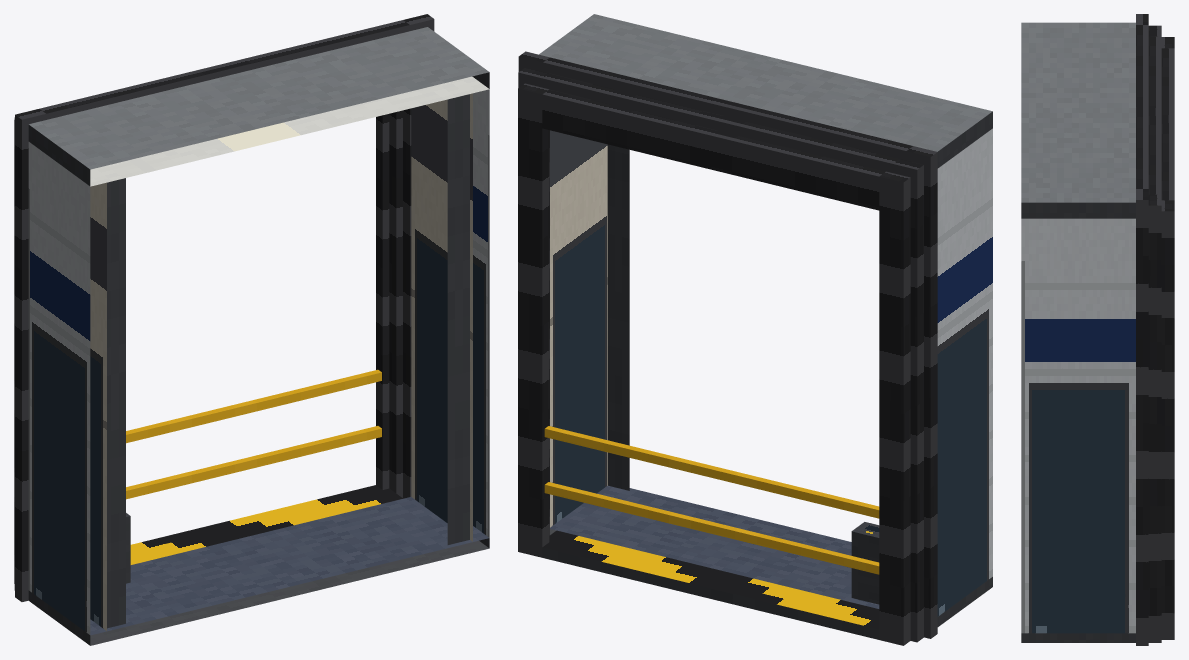
Rendered from airport_jet_bridge_large_cab_body.obj.
3 renders of one model, left to right at view 1: azimuth 30°, elevation 25°; view 2: azimuth 150°, elevation 25°; view 3: azimuth 270°, elevation 25°, orthographic. The views are drawn at different scales.
Parts seen in each view (by area): view 1: airport_jet_bridge_large_cab_body; view 2: airport_jet_bridge_large_cab_body; view 3: airport_jet_bridge_large_cab_body.
Boxes of the visible parts, <box> form: airport_jet_bridge_large_cab_body: <box>14,14,489,645</box>; airport_jet_bridge_large_cab_body: <box>518,14,992,645</box>; airport_jet_bridge_large_cab_body: <box>1021,14,1174,645</box>.
Size of the model in its own units: 3.85 by 4.3 by 1.34.
